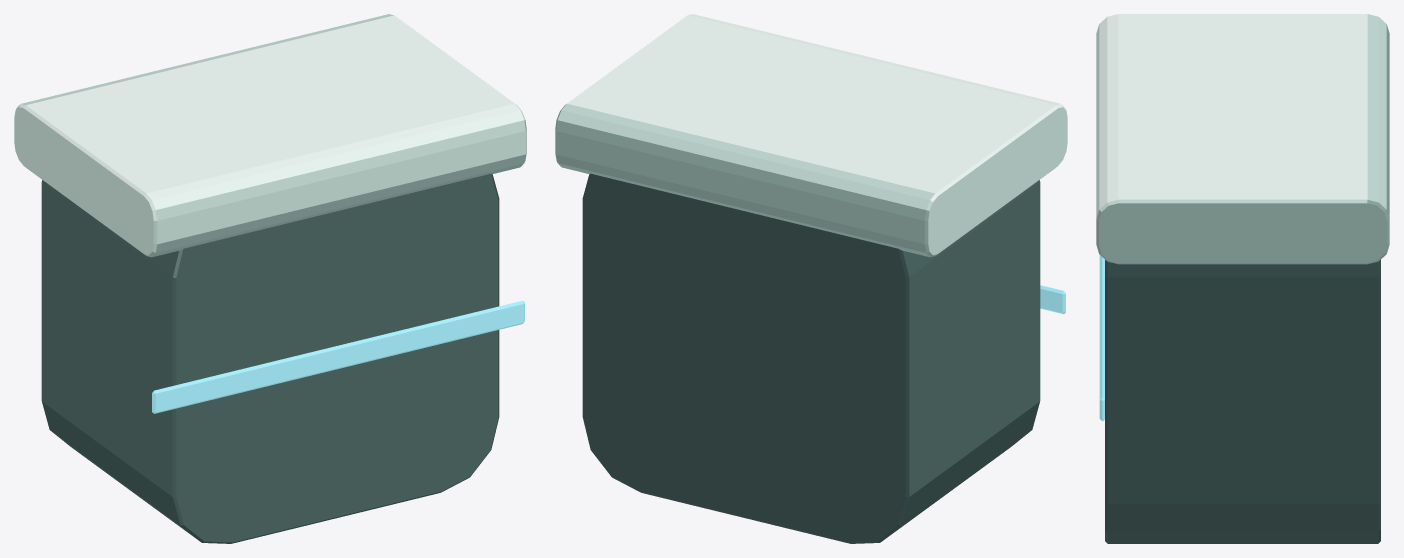
File: Bridge_Deck.gltf
The picture shows the model from 3 angles, left to right: view 1: azimuth 30°, elevation 25°; view 2: azimuth 150°, elevation 25°; view 3: azimuth 270°, elevation 25°; orthographic projection. The views are drawn at different scales.
Parts seen in each view (by area): view 1: Bridge_Deck_baked; view 2: Bridge_Deck_baked; view 3: Bridge_Deck_baked.
Part boxes in pixels (<box>): Bridge_Deck_baked: <box>14,14,526,543</box>; Bridge_Deck_baked: <box>555,14,1067,543</box>; Bridge_Deck_baked: <box>1096,14,1389,543</box>.
Bounding box in the file's own units: 1 × 0.9375 × 0.66.
